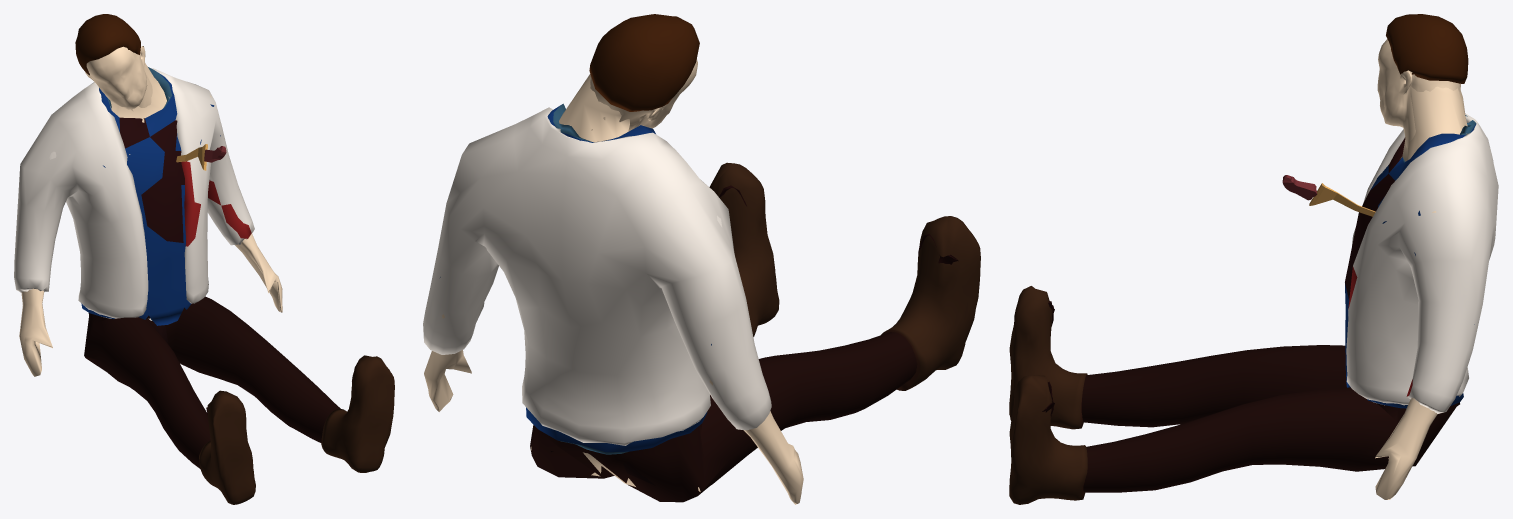
The model's file is bapak otw unity.fbx.
3 renders of one model, left to right at view 1: azimuth 30°, elevation 25°; view 2: azimuth 150°, elevation 25°; view 3: azimuth 270°, elevation 25°, orthographic. The views are drawn at different scales.
Visible parts, largest first — view 1: DemoHead; view 2: DemoHead; view 3: DemoHead, Cube.001_Cube.002.
Boxes of the visible parts, bbox=[...] form: DemoHead: bbox=[14, 14, 394, 504]; DemoHead: bbox=[423, 14, 980, 504]; DemoHead: bbox=[1009, 14, 1498, 504]; Cube.001_Cube.002: bbox=[1309, 183, 1375, 216].
Bounding box in the file's own units: 3054 × 4013 × 4154.
